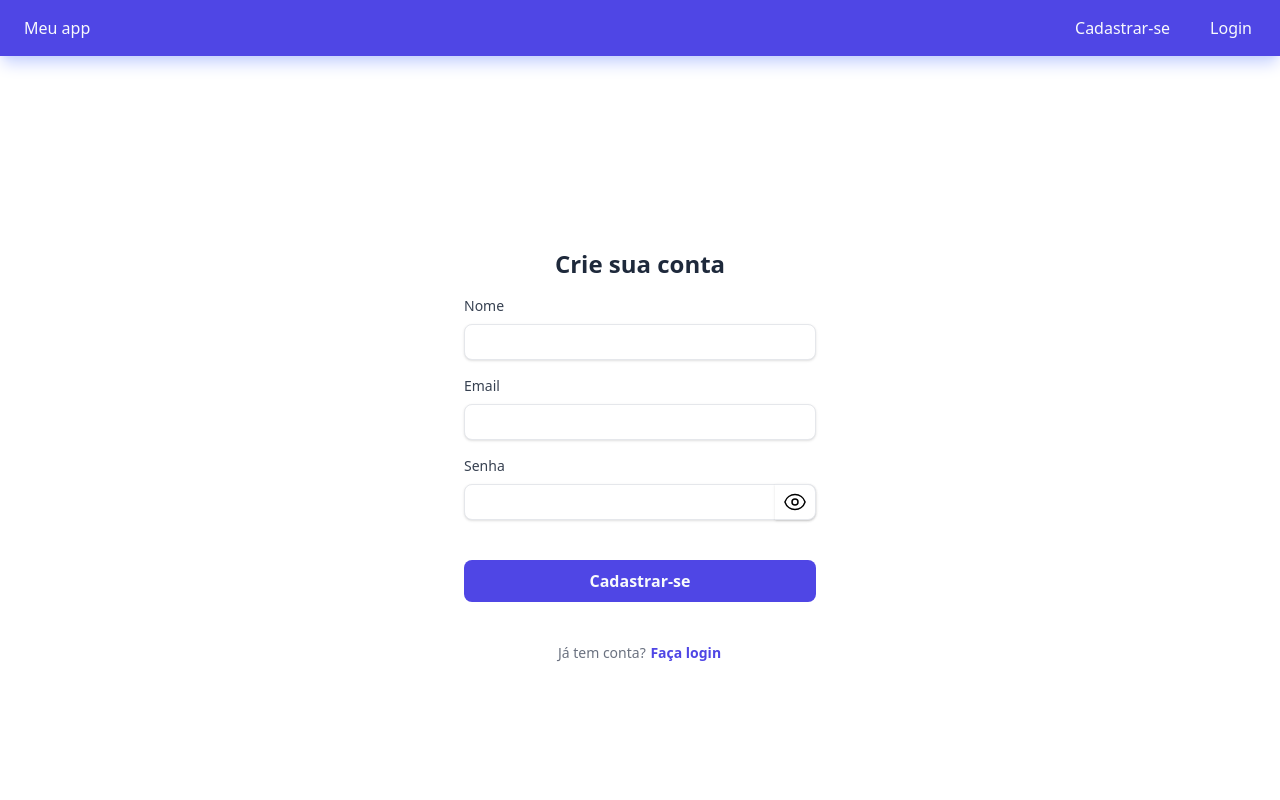
Scenario: [Account] Create › should see input empty error when click in submit button
Click the button "Cadastrar-se" at (640, 581), box [464, 560, 816, 602]
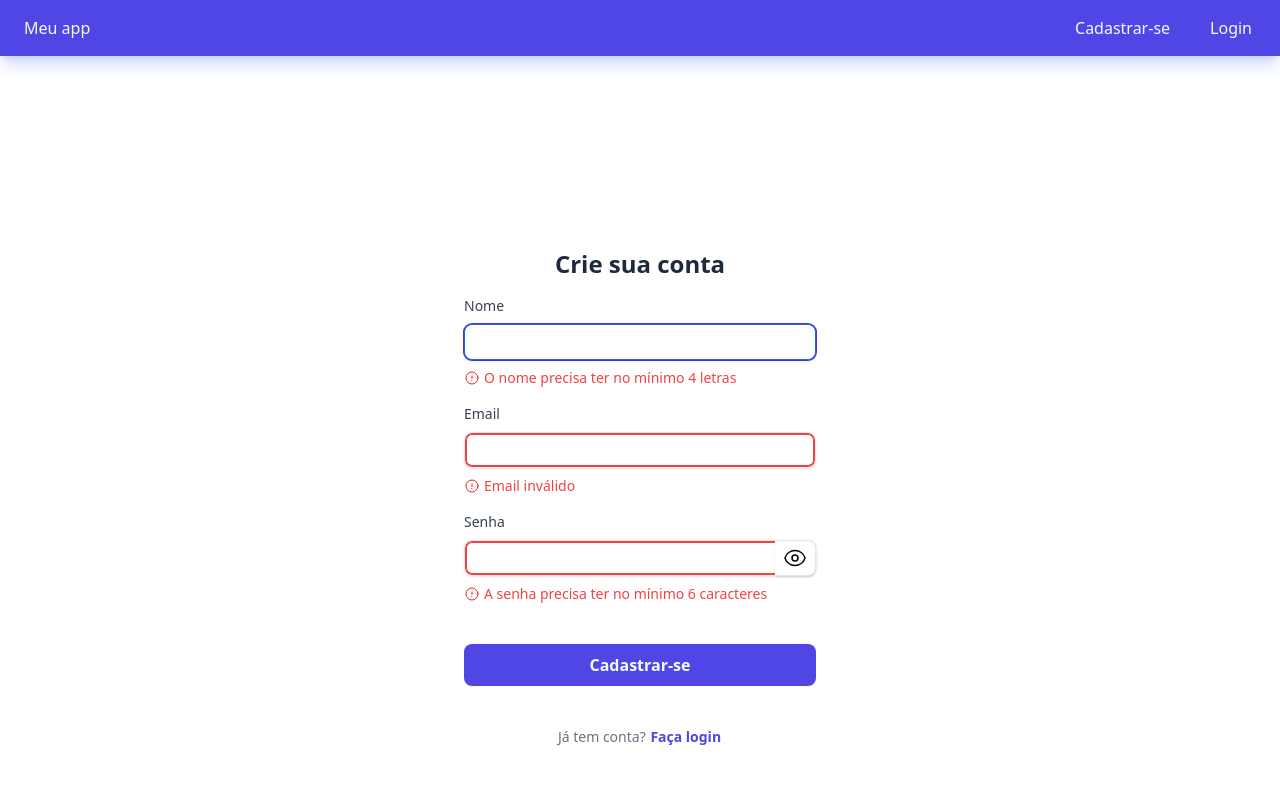
Now the text "O nome precisa ter no mínimo 4 letras" is shown, box [464, 368, 736, 387]
Now the text "Email inválido" is shown, box [464, 476, 575, 495]
Now the text "A senha precisa ter no mínimo 6 caracteres" is shown, box [464, 584, 816, 604]
